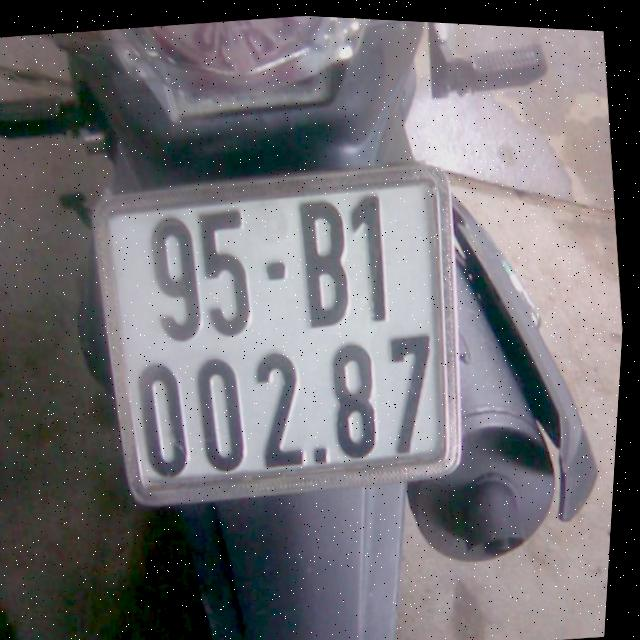motorcycle: (0, 0, 640, 640)
plate: (72, 148, 484, 523)
